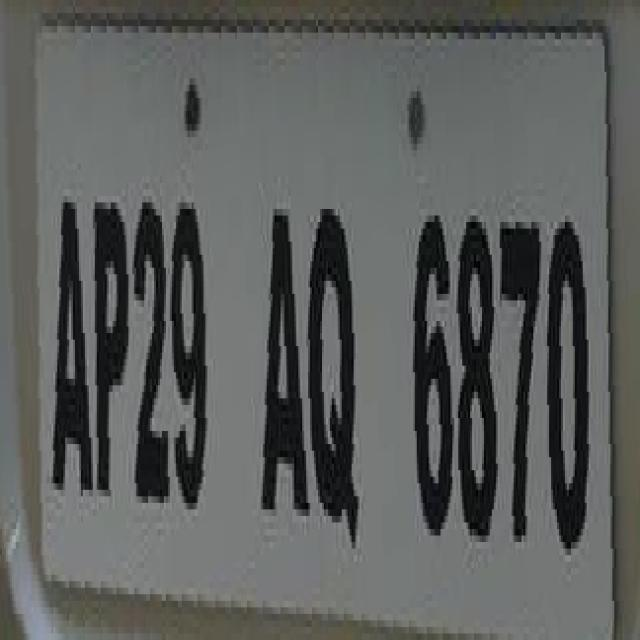license_plate: (4, 13, 614, 614)
